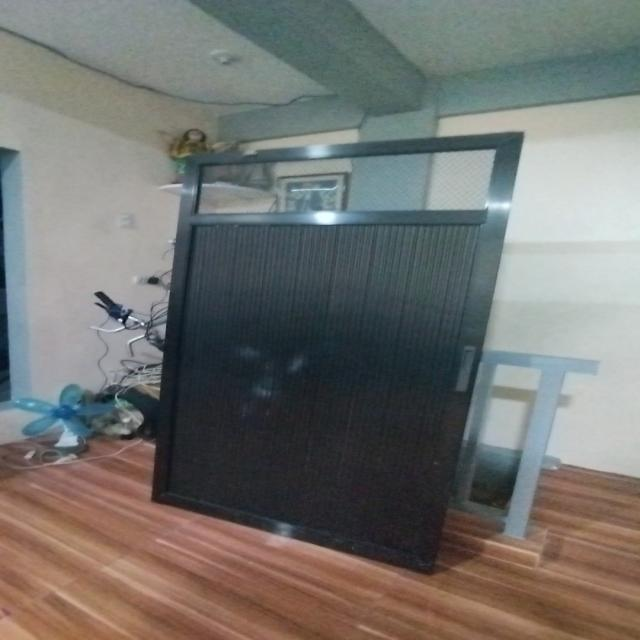door: (144, 130, 529, 569)
